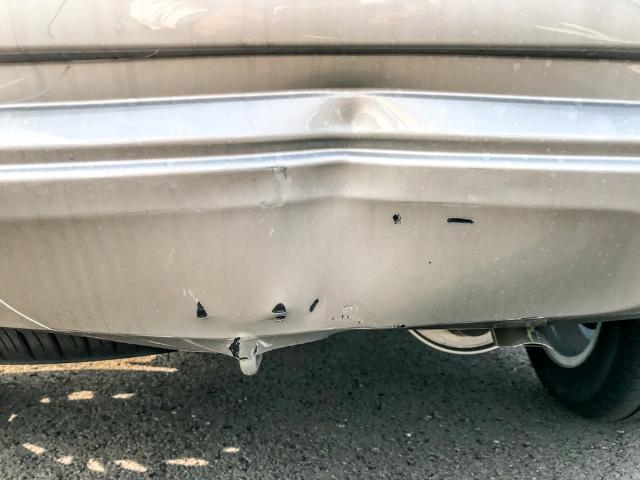dent: (274, 162, 479, 318), (307, 96, 406, 133)
